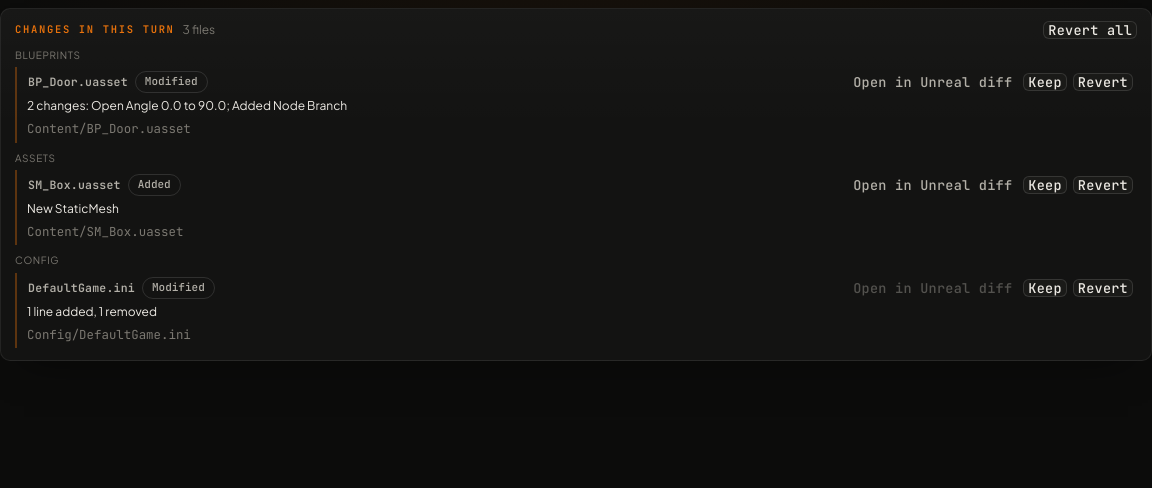
Test: the turn card › says what a revert left alone
Click the 3rd button "Revert". click: click(1103, 288)
box: [1073, 279, 1133, 297]
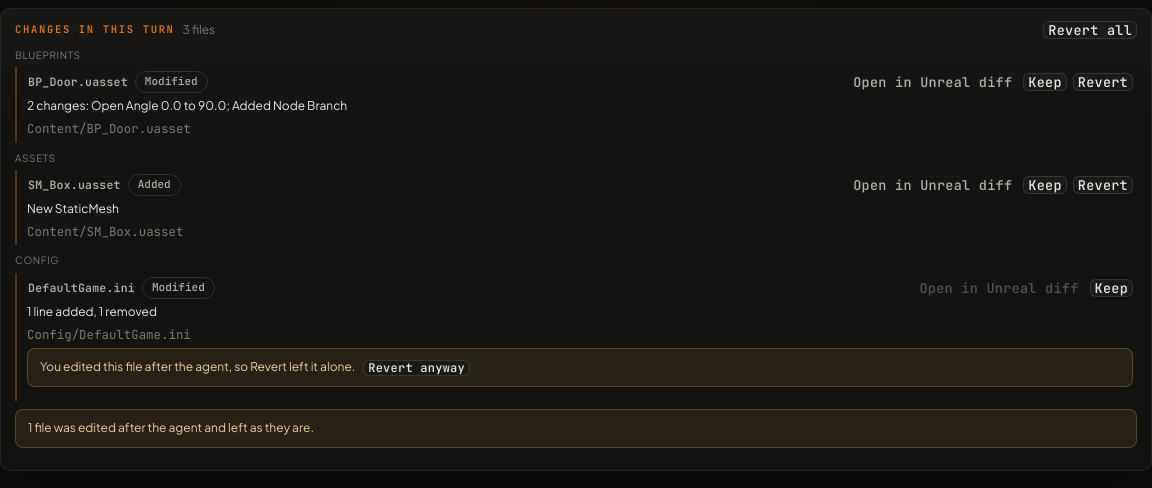
Now the text "1 file was edited after the agent and left as they are." is shown, box [15, 409, 1137, 448]
